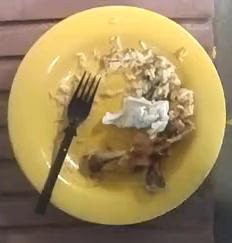rice: (98, 36, 194, 119)
